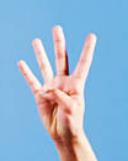right: (15, 23, 98, 140)
